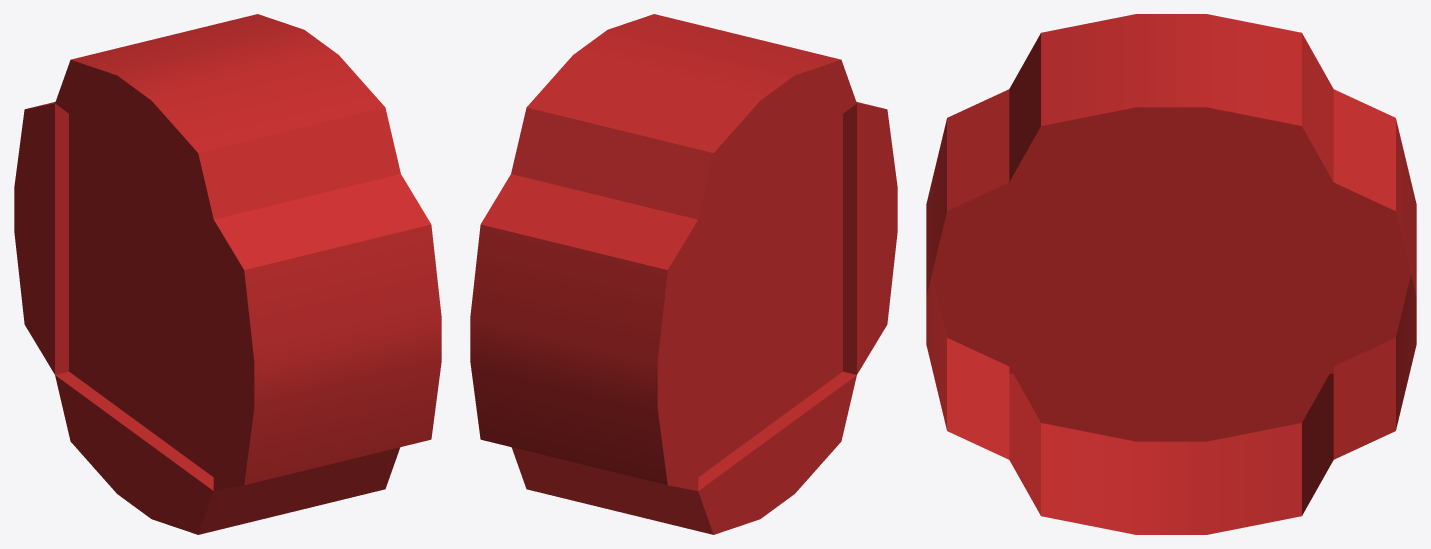
File: handle.FBX
3 renders of one model, left to right at view 1: azimuth 30°, elevation 25°; view 2: azimuth 150°, elevation 25°; view 3: azimuth 270°, elevation 25°, orthographic. The views are drawn at different scales.
Visible parts, largest first — view 1: Object001; view 2: Object001; view 3: Object001.
Boxes of the visible parts, x1,y1,x2,y2 form: Object001: (14,14,441,534); Object001: (470,14,897,534); Object001: (926,14,1416,534).
Size of the model in its own units: 1.25 by 2.67 by 2.77.
